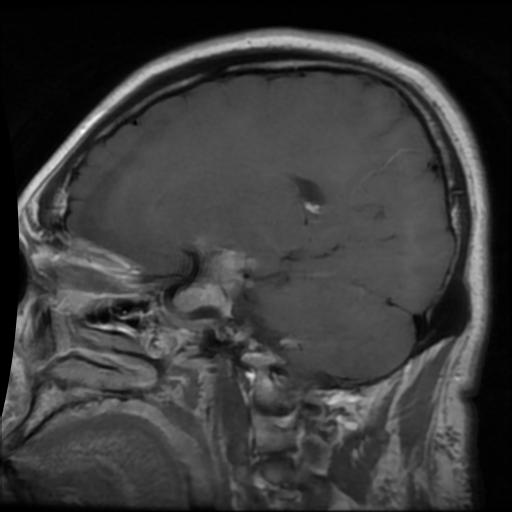Pituirity_tumour: (168, 241, 258, 315)
